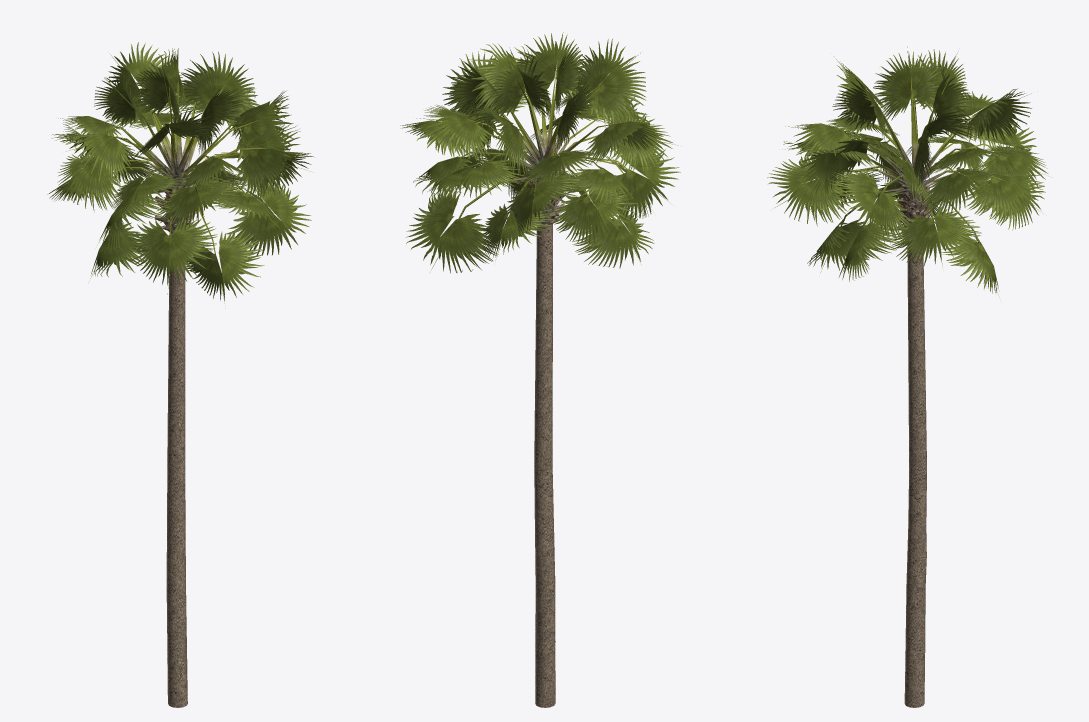
Rendered from California_Palm_Model_0.obj.
The picture shows the model from 3 angles, left to right: view 1: azimuth 30°, elevation 25°; view 2: azimuth 150°, elevation 25°; view 3: azimuth 270°, elevation 25°; orthographic projection. The views are drawn at different scales.
Visible parts, largest first — view 1: Foliage, Bark; view 2: Foliage, Bark; view 3: Foliage, Bark.
Part boxes in pixels (left/top/right/bottom): Foliage: left=47, top=42, right=313, bottom=305; Bark: left=166, top=262, right=187, bottom=707; Foliage: left=400, top=32, right=680, bottom=273; Bark: left=534, top=223, right=555, bottom=707; Foliage: left=767, top=47, right=1048, bottom=296; Bark: left=904, top=244, right=926, bottom=707.
Size of the model in its own units: 7.32 by 18 by 8.14.
2 materials, 2 textured.
